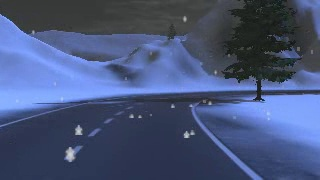Lane: (0, 89, 319, 179)
